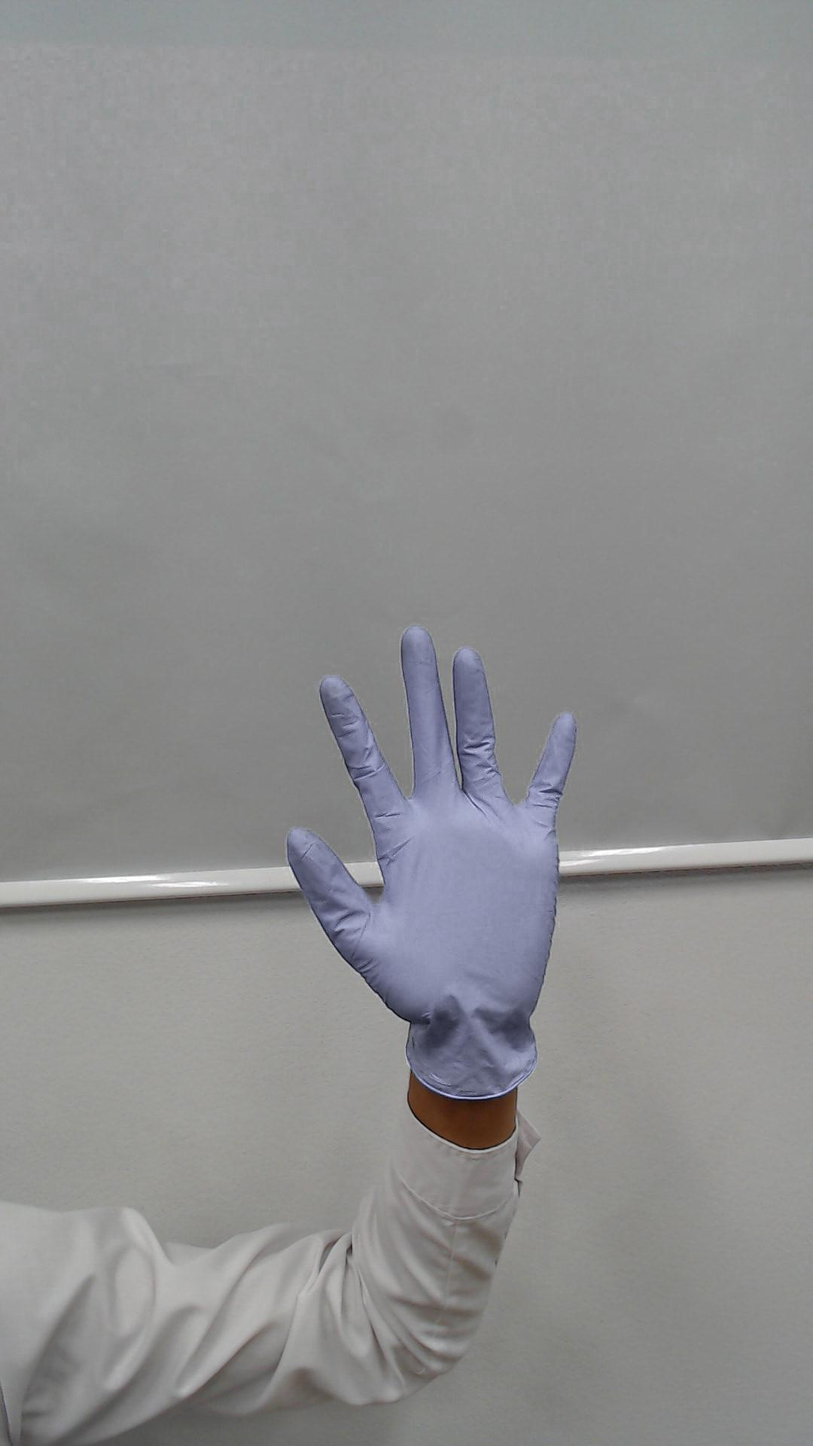gloves: (242, 595, 656, 1039)
